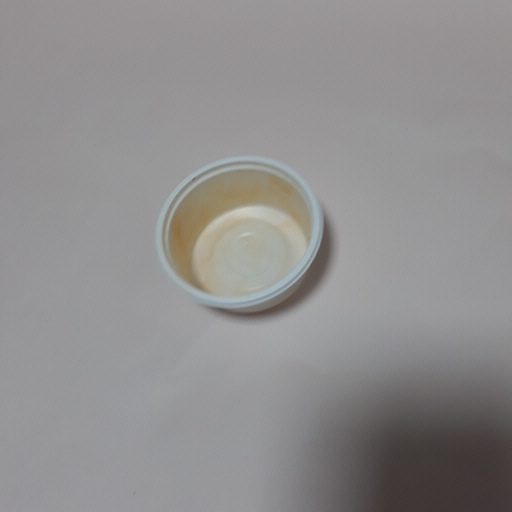Plastic_5: (150, 154, 325, 316)
